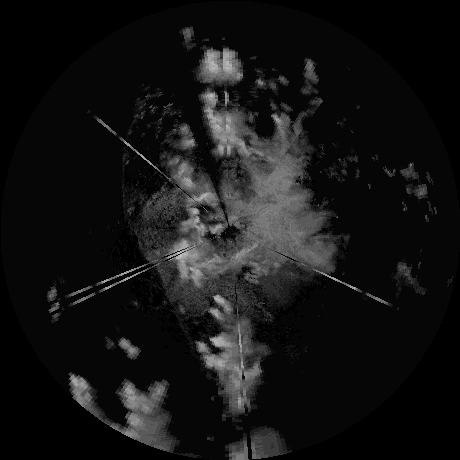frontgust: (120, 114, 140, 229)
